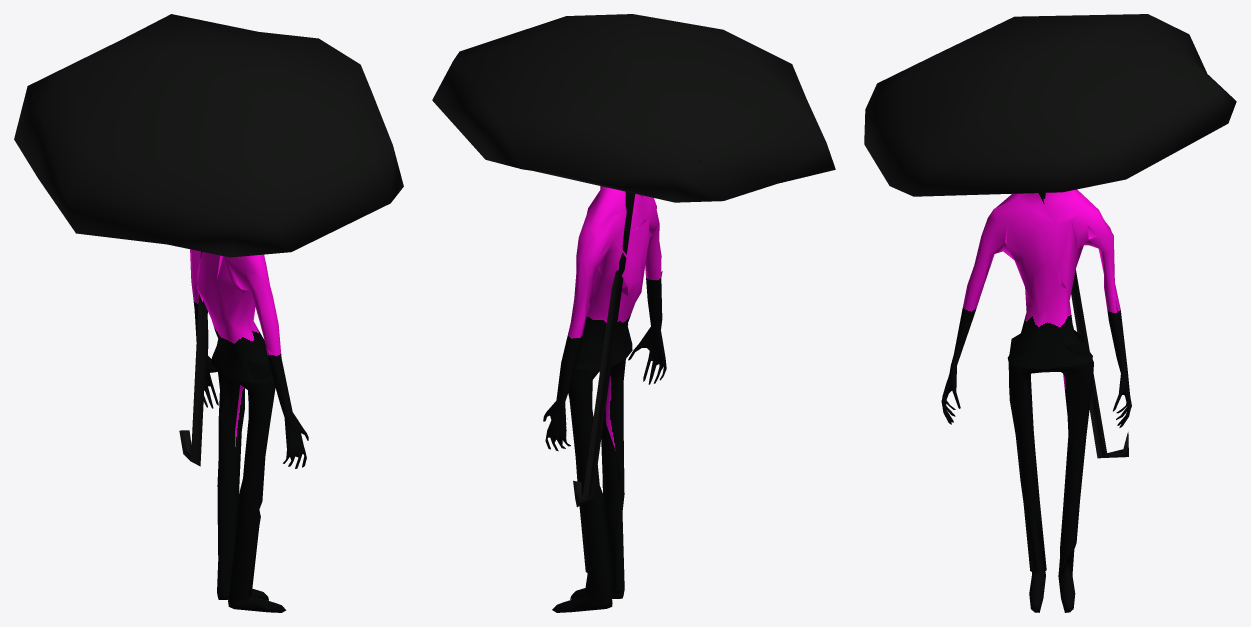
File: crasher.obj
The picture shows the model from 3 angles, left to right: view 1: azimuth 30°, elevation 25°; view 2: azimuth 150°, elevation 25°; view 3: azimuth 270°, elevation 25°; orthographic projection. The views are drawn at different scales.
Visible parts, largest first — view 1: man_skycrasher; view 2: man_skycrasher; view 3: man_skycrasher.
Part boxes in pixels (x1,y1,x2,y2): man_skycrasher: (14,14,403,612); man_skycrasher: (432,14,835,612); man_skycrasher: (864,14,1236,612).
Size of the model in its own units: 0.9942 by 1.61 by 0.9923.
